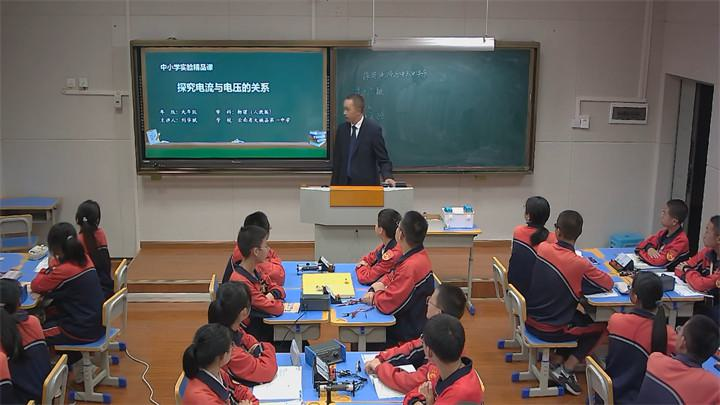listen: (500, 181, 548, 286), (182, 319, 238, 405), (419, 316, 473, 405), (395, 206, 441, 305), (549, 204, 593, 296), (641, 183, 685, 269), (72, 187, 110, 284), (356, 198, 395, 286), (233, 207, 273, 273)
